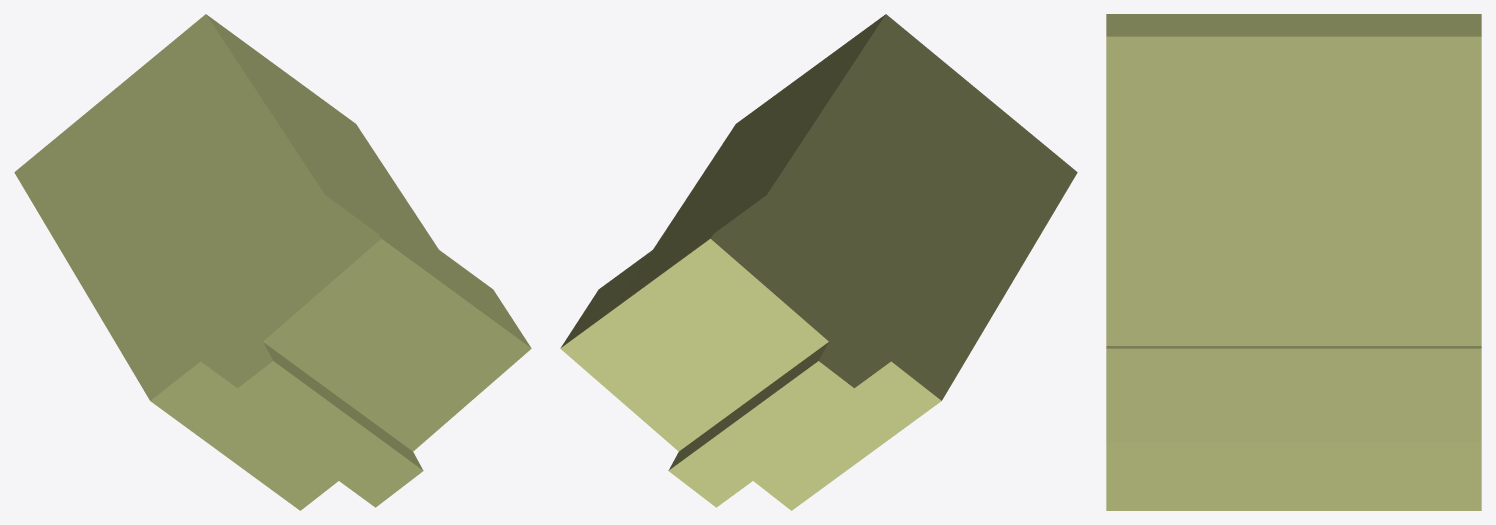
The picture shows the model from 3 angles, left to right: view 1: azimuth 30°, elevation 25°; view 2: azimuth 150°, elevation 25°; view 3: azimuth 270°, elevation 25°; orthographic projection. The views are drawn at different scales.
Parts seen in each view (by area): view 1: 0_0_1_1_2_1_2_3_2_3; view 2: 0_0_1_1_2_1_2_3_2_3; view 3: 0_0_1_1_2_1_2_3_2_3.
Boxes of the visible parts, x1,y1,x2,y2 form: 0_0_1_1_2_1_2_3_2_3: (14, 14, 531, 510); 0_0_1_1_2_1_2_3_2_3: (560, 14, 1077, 510); 0_0_1_1_2_1_2_3_2_3: (1106, 14, 1481, 510).
Size of the model in its own units: 12.7 by 12.84 by 9.
